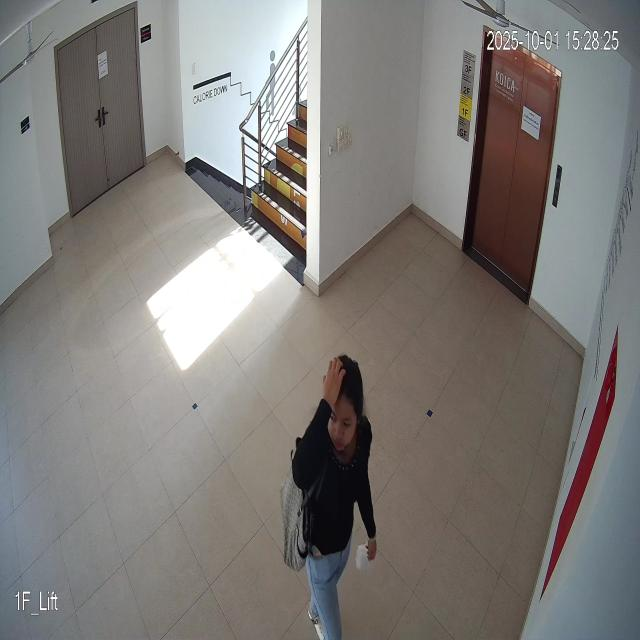face: (318, 338, 365, 466)
